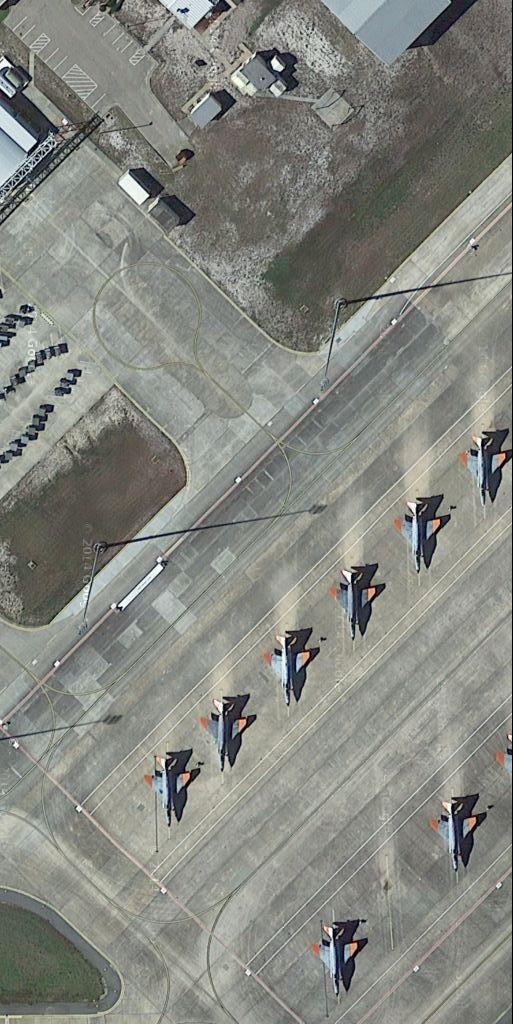plane: (389, 494, 455, 580), (140, 748, 202, 831), (306, 916, 365, 1003), (324, 561, 383, 647), (195, 694, 256, 776), (260, 625, 316, 711), (456, 427, 509, 517), (425, 798, 484, 878)
